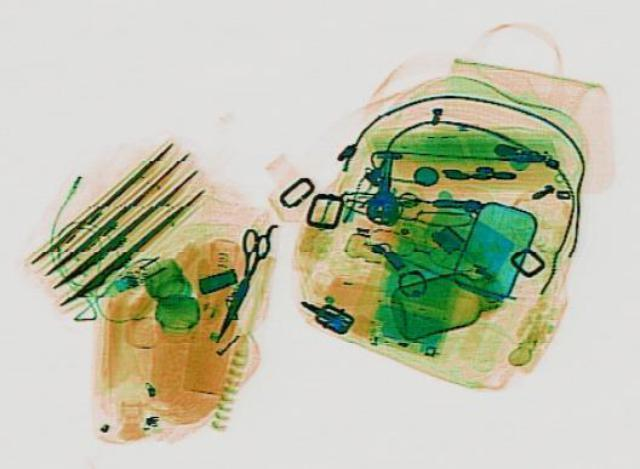Scissors: (200, 226, 276, 343)
